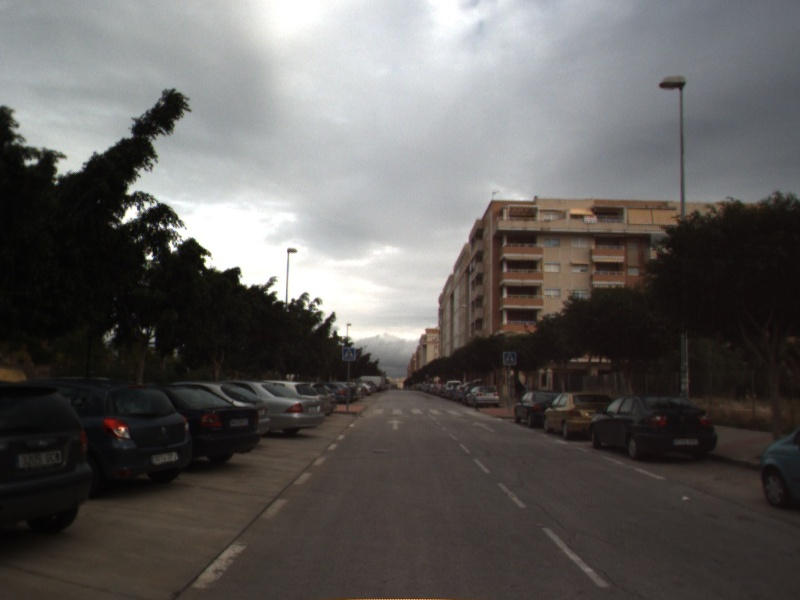STRAIGHT: (470, 419, 497, 434), (385, 417, 406, 431)
